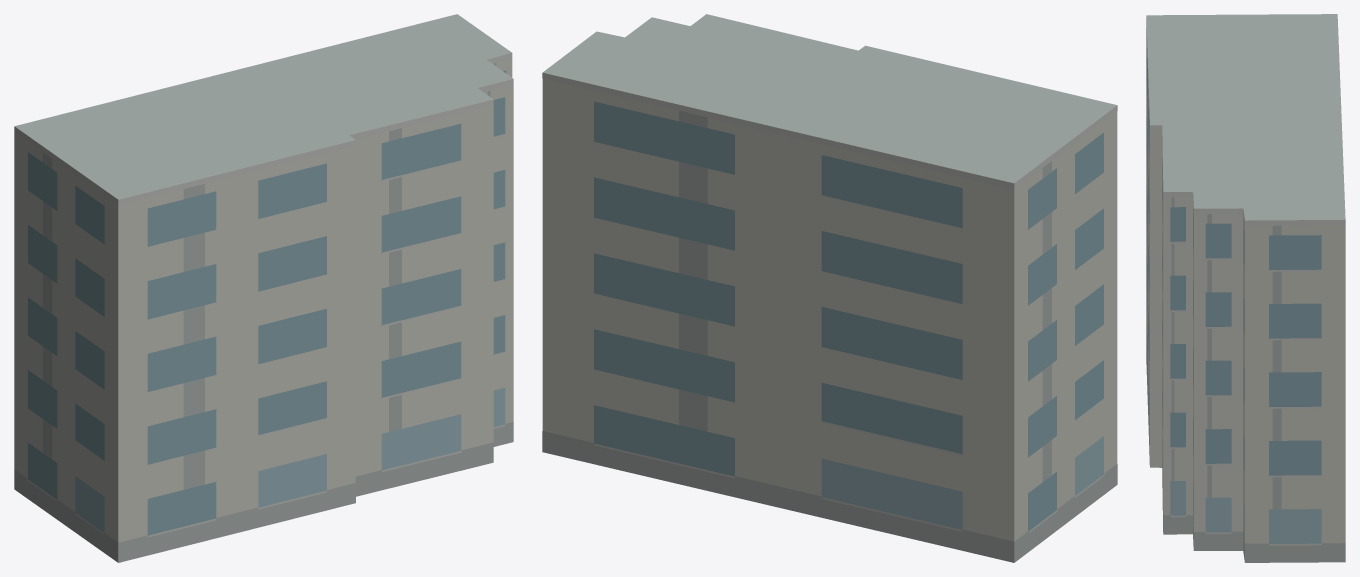
File: survey-upis-32934879.glb
The picture shows the model from 3 angles, left to right: view 1: azimuth 30°, elevation 25°; view 2: azimuth 150°, elevation 25°; view 3: azimuth 270°, elevation 25°; orthographic projection. The views are drawn at different scales.
Visible parts, largest first — view 1: survey-upis-32934879.tmp; view 2: survey-upis-32934879.tmp; view 3: survey-upis-32934879.tmp.
Boxes of the visible parts, x1,y1,x2,y2 form: survey-upis-32934879.tmp: (14,14,513,562); survey-upis-32934879.tmp: (542,14,1117,562); survey-upis-32934879.tmp: (1146,14,1345,562).
Size of the model in its own units: 19.73 by 15.25 by 8.05.
